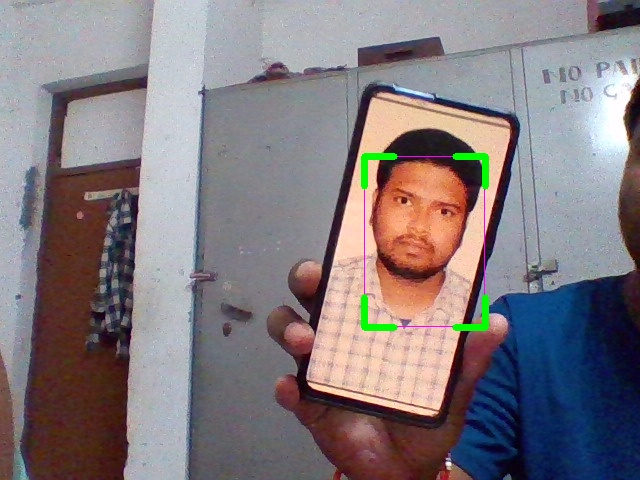fake: (364, 156, 485, 327)
